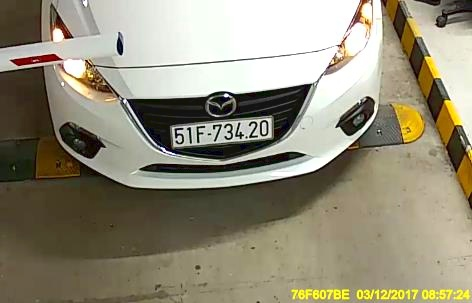plate: (170, 119, 273, 145)
